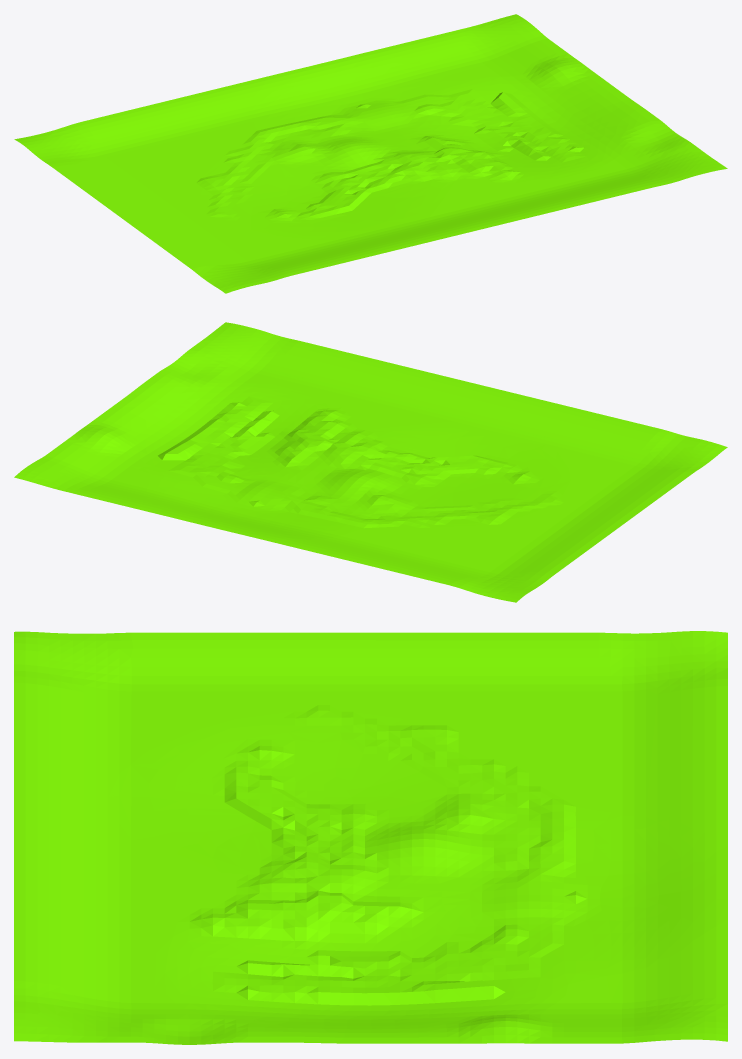
Rendered from baseOfRoad.glb.
3 renders of one model, top to bottom at view 1: azimuth 30°, elevation 25°; view 2: azimuth 150°, elevation 25°; view 3: azimuth 270°, elevation 25°, orthographic. The views are drawn at different scales.
Visible parts, largest first — view 1: Plane; view 2: Plane; view 3: Plane.
Boxes of the visible parts, x1,y1,x2,y2 form: Plane: (14,14,727,293); Plane: (14,322,727,602); Plane: (14,631,727,1044).
Bounding box in the file's own units: 754 × 23.76 × 550.
